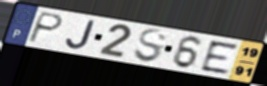2: (97, 23, 135, 60)
6: (171, 35, 203, 71)
E: (199, 39, 241, 76)
J: (64, 19, 98, 51)
P: (25, 11, 65, 45)
S: (132, 28, 169, 64)
